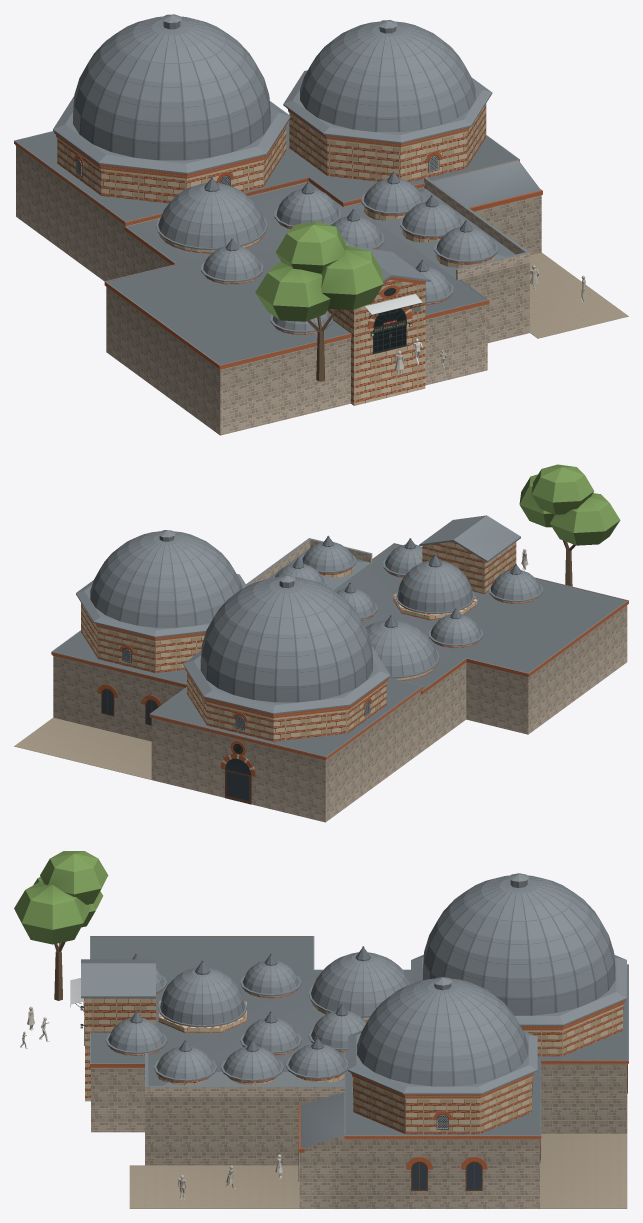
The model's file is orhan-bey-hamami_v04.glb.
The picture shows the model from 3 angles, top to bottom: view 1: azimuth 30°, elevation 25°; view 2: azimuth 150°, elevation 25°; view 3: azimuth 270°, elevation 25°; orthographic projection. The views are drawn at different scales.
Visible parts, largest first — view 1: Hamam_Sicaklik, Kubbe_Sogukluk_Erkek, Kubbe_Sogukluk_Kadin, Kubbe_Halvetler, Hamam_Sogukluk_Erkek, Cevre_Agac_01, Hamam_Giris, Hamam_Detay, Kubbe_Iliklik, Hamam_Giris_Kadin, Cevre_Doseme, Hamam_Sogukluk_Kadin; view 2: Kubbe_Sogukluk_Erkek, Hamam_Sicaklik, Hamam_Sogukluk_Erkek, Kubbe_Sogukluk_Kadin, Kubbe_Halvetler, Hamam_Detay, Hamam_Sogukluk_Kadin, Cevre_Agac_01, Hamam_Giris, Cevre_Doseme, Kubbe_Sicaklik, Kubbe_Iliklik; view 3: Hamam_Sicaklik, Kubbe_Sogukluk_Erkek, Kubbe_Sogukluk_Kadin, Kubbe_Halvetler, Hamam_Sogukluk_Kadin, Cevre_Doseme, Hamam_Sogukluk_Erkek, Cevre_Agac_01, Hamam_Detay, Hamam_Giris, Hamam_Giris_Kadin, Kubbe_Sicaklik (+1 smaller).
Boxes of the visible parts, box(x1,y1,x2,y2) form: Hamam_Sicaklik: box(106, 182, 529, 435); Kubbe_Sogukluk_Erkek: box(53, 16, 290, 203); Kubbe_Sogukluk_Kadin: box(283, 21, 492, 181); Kubbe_Halvetler: box(201, 177, 529, 334); Hamam_Sogukluk_Erkek: box(16, 131, 322, 281); Cevre_Agac_01: box(255, 221, 383, 381); Hamam_Giris: box(327, 247, 430, 405); Hamam_Detay: box(14, 14, 519, 369); Kubbe_Iliklik: box(156, 183, 267, 253); Hamam_Giris_Kadin: box(433, 160, 542, 254); Cevre_Doseme: box(530, 252, 628, 338); Hamam_Sogukluk_Kadin: box(286, 120, 517, 207); Kubbe_Sogukluk_Erkek: box(183, 577, 390, 741); Hamam_Sicaklik: box(333, 544, 627, 751); Hamam_Sogukluk_Erkek: box(151, 678, 421, 822); Kubbe_Sogukluk_Kadin: box(76, 531, 246, 672); Kubbe_Halvetler: box(246, 538, 543, 648); Hamam_Detay: box(51, 530, 628, 804); Hamam_Sogukluk_Kadin: box(53, 631, 186, 741); Cevre_Agac_01: box(519, 464, 620, 586); Hamam_Giris: box(419, 515, 520, 593); Cevre_Doseme: box(14, 717, 151, 779); Kubbe_Sicaklik: box(393, 560, 477, 620); Kubbe_Iliklik: box(365, 620, 439, 680); Hamam_Sicaklik: box(91, 936, 410, 1165); Kubbe_Sogukluk_Erkek: box(411, 875, 626, 1056); Kubbe_Sogukluk_Kadin: box(348, 978, 537, 1134); Kubbe_Halvetler: box(105, 960, 366, 1096); Hamam_Sogukluk_Kadin: box(346, 1052, 539, 1208); Cevre_Doseme: box(129, 1133, 627, 1208); Hamam_Sogukluk_Erkek: box(537, 965, 627, 1133); Cevre_Agac_01: box(14, 851, 108, 1000); Hamam_Detay: box(90, 873, 628, 1190); Hamam_Giris: box(70, 959, 155, 1101); Hamam_Giris_Kadin: box(298, 1092, 345, 1208); Kubbe_Sicaklik: box(158, 967, 246, 1032).
Bounding box in the file's own units: 31.62 × 15.2 × 39.88.
7 materials, 6 textured.
